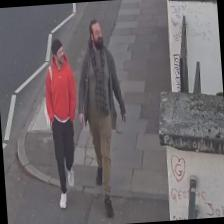person: (72, 17, 132, 219), (41, 37, 84, 208)
